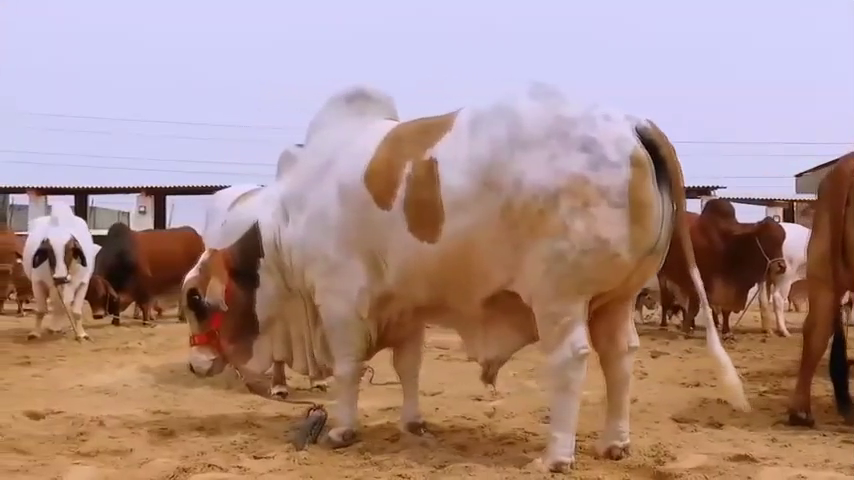bo: (160, 68, 768, 480), (787, 134, 854, 430), (80, 192, 211, 334), (659, 196, 785, 342), (757, 213, 854, 345), (24, 198, 90, 349), (2, 208, 23, 328)
